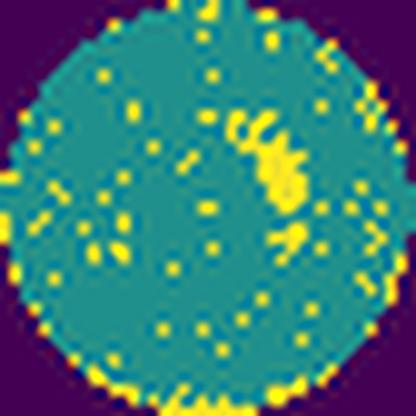Loc: (225, 109, 309, 215), (268, 219, 311, 267)
